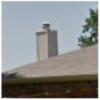chimneys: (36, 22, 59, 62)
